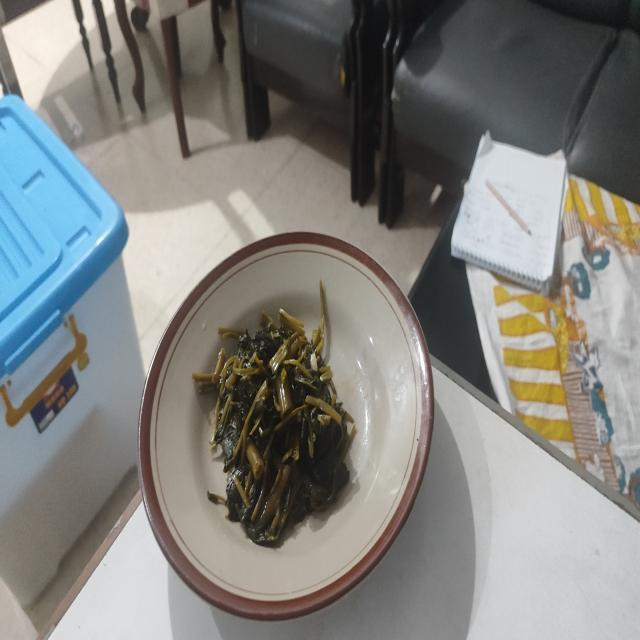tumis_kangkung: (192, 281, 356, 544)
